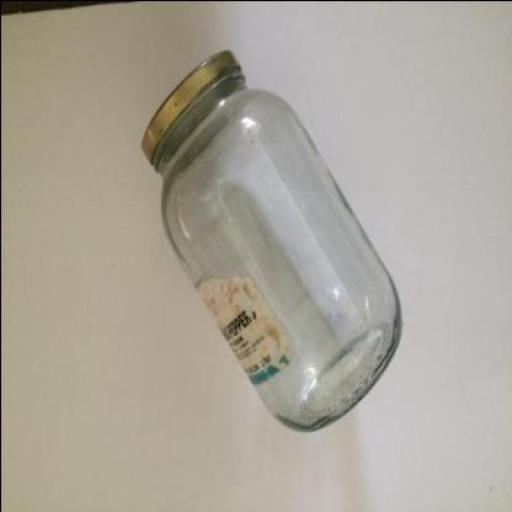glass: (148, 68, 398, 427)
metal: (140, 48, 239, 160)
